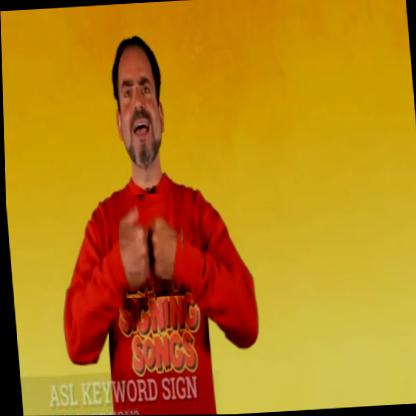HowAreYou: (113, 192, 184, 298)
